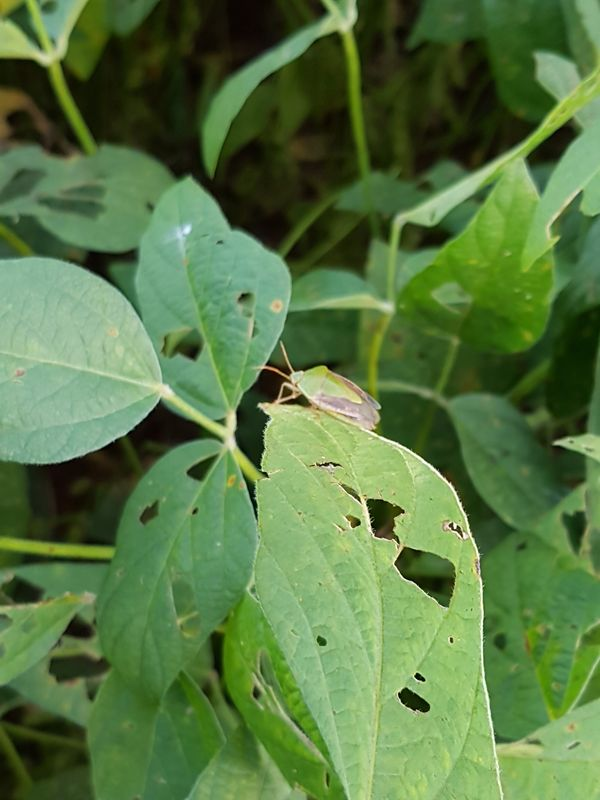Edessa_meditabunda: (246, 336, 392, 455)
